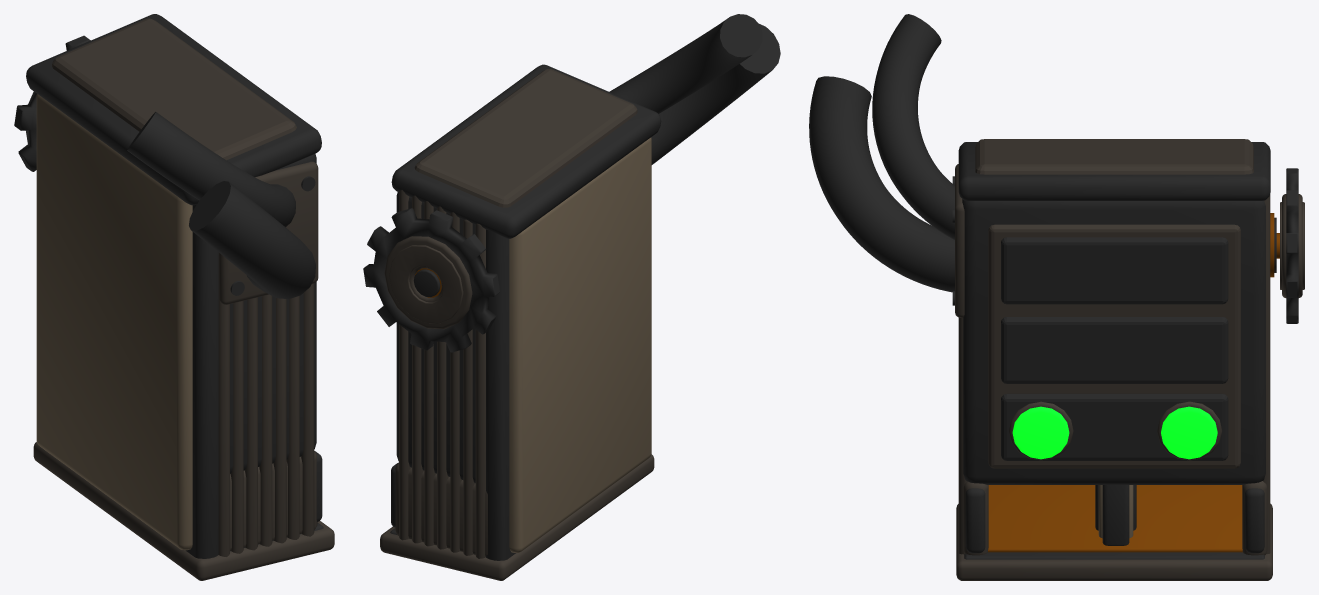
Rendered from Выдача (2).fbx.
The picture shows the model from 3 angles, left to right: view 1: azimuth 30°, elevation 25°; view 2: azimuth 150°, elevation 25°; view 3: azimuth 270°, elevation 25°; orthographic projection. The views are drawn at different scales.
Visible parts, largest first — view 1: Cube_22, Cube_30, Cube_29, Cube_1, Torus, Torus_1, Cube_19, Cube_1_2, Cube_23, Cube_5, Cube_11, Cube_8 (+7 smaller); view 2: Cube_22, Cube_30, Шестеренушка, Cube_29, Cube_1, Torus_1, Cube_19, Torus, Cube_1_2, Cube_18, Cube_17, Cube_12 (+6 smaller); view 3: Cube_1_2, Cube_4, Cube_28, Cube_27, Cube_20, Torus, Torus_1, Cube_30, Cube_26, Cube_29, Cube_19, Шестеренушка (+13 smaller).
Boxes of the visible parts, x1,y1,x2,y2 form: Cube_22: (36,94,192,550); Cube_30: (52,18,296,160); Cube_29: (26,14,321,205); Cube_1: (185,204,218,558); Torus: (189,181,315,299); Torus_1: (127,112,295,227); Cube_19: (33,442,334,580); Cube_1_2: (230,154,316,473); Cube_23: (219,161,318,304); Cube_5: (218,252,229,556); Cube_11: (301,283,314,536); Cube_8: (259,294,272,546); Cube_22: (509,137,651,552); Cube_30: (414,69,637,207); Шестеренушка: (363,208,499,352); Cube_29: (391,64,661,238); Cube_1: (486,229,515,560); Torus_1: (609,14,762,113); Cube_19: (380,454,654,580); Torus: (651,24,780,164); Cube_1_2: (396,192,475,483); Cube_18: (475,223,485,558); Cube_17: (463,219,474,555); Cube_12: (399,190,410,540); Cube_1_2: (962,199,1265,484); Cube_4: (988,224,1240,468); Cube_28: (1001,237,1228,304); Cube_27: (1001,317,1228,383); Cube_20: (988,485,1242,552); Torus: (809,76,954,292); Torus_1: (872,14,954,239); Cube_30: (975,139,1253,174); Cube_26: (1001,393,1228,460); Cube_29: (958,142,1270,200); Cube_19: (956,503,1272,580); Шестеренушка: (1280,168,1304,323).
Bounding box in the file's own units: 174 × 354 × 335.
